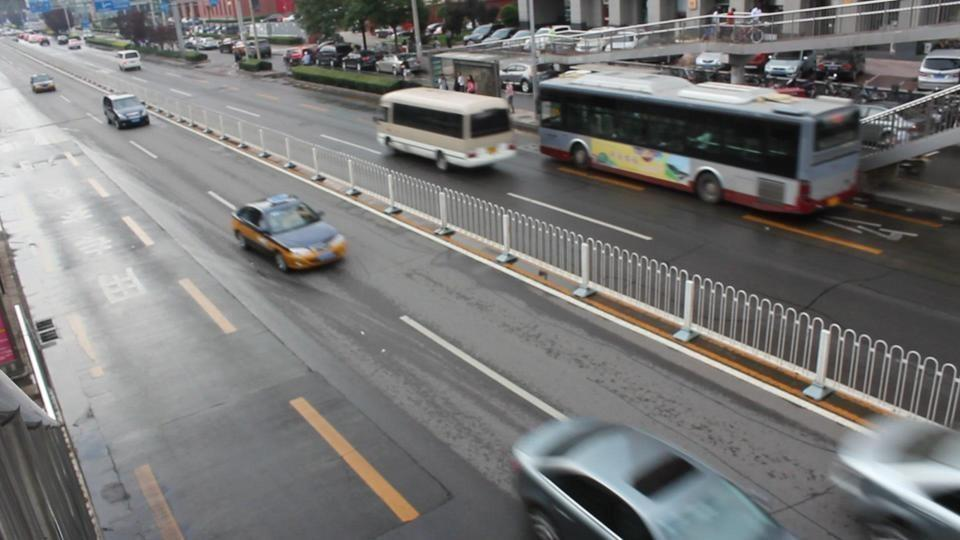car: (508, 415, 795, 537), (826, 414, 960, 536), (231, 192, 348, 273), (791, 50, 865, 82), (917, 47, 960, 89), (764, 49, 814, 83), (102, 94, 149, 130), (462, 24, 528, 48), (376, 54, 425, 76), (693, 52, 731, 80), (500, 62, 534, 93), (342, 49, 381, 72), (114, 49, 142, 72), (30, 74, 57, 94), (16, 32, 50, 46), (191, 38, 219, 49), (67, 37, 82, 50)
